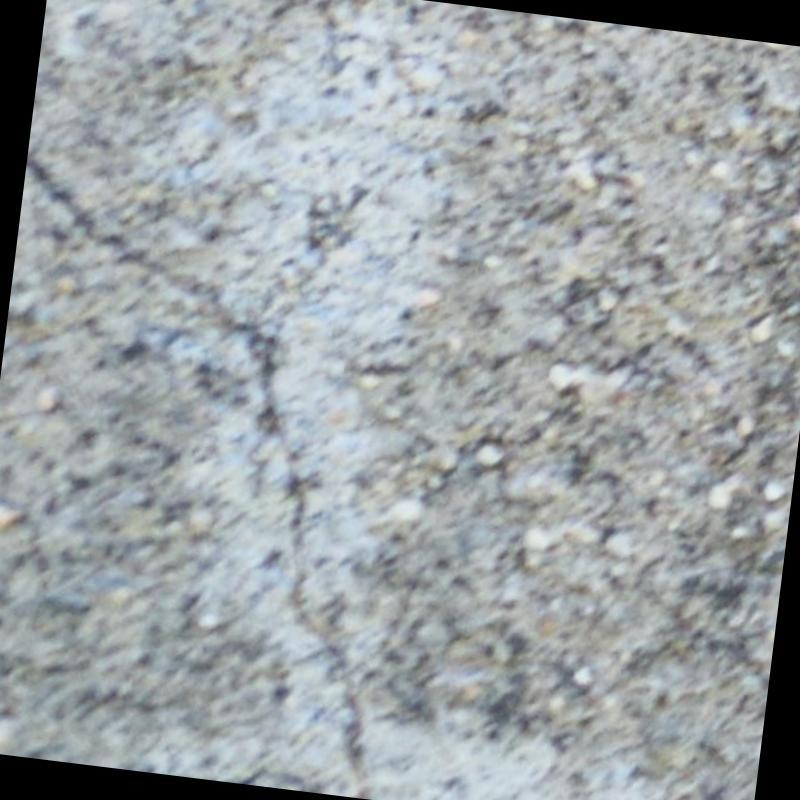pothole: (26, 153, 369, 798)
